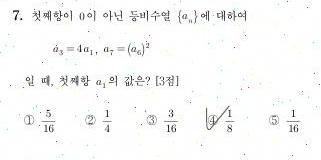choice: (204, 110, 219, 131)
not-choice: (144, 113, 158, 127), (267, 113, 281, 127), (82, 114, 97, 127), (22, 114, 34, 125)
